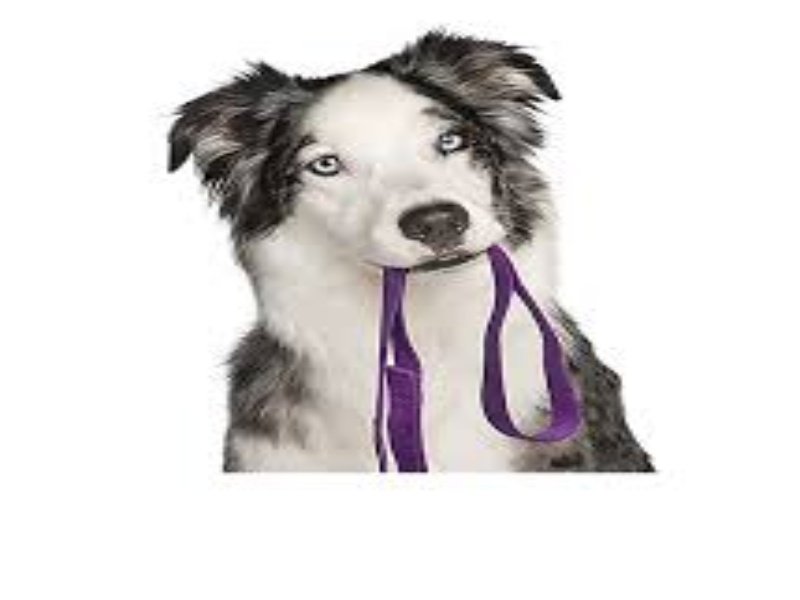dog: (159, 24, 664, 472)
